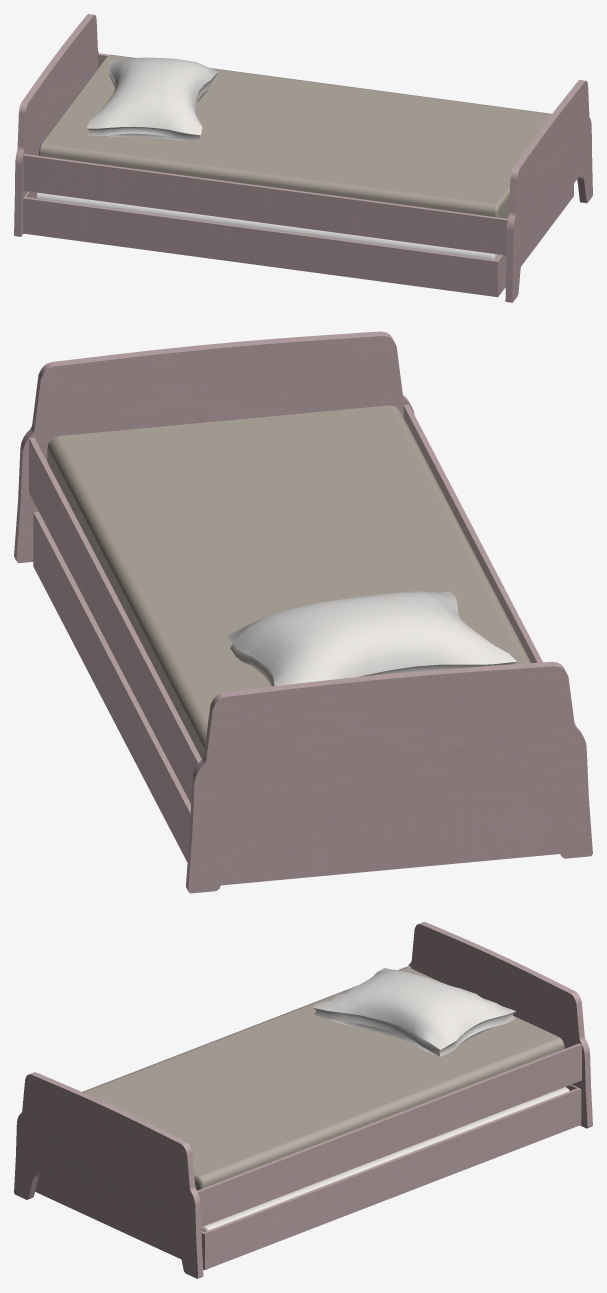
Rendered from vintage-bed_rot.gltf.
The picture shows the model from 3 angles, top to bottom: view 1: azimuth 30°, elevation 25°; view 2: azimuth 150°, elevation 25°; view 3: azimuth 270°, elevation 25°; orthographic projection. The views are drawn at different scales.
Visible parts, largest first — view 1: bed-mattress, bed-structure, divan, pillow, divan-mattress; view 2: bed-structure, bed-mattress, divan, pillow; view 3: bed-structure, bed-mattress, divan, pillow, divan-mattress.
Part boxes in pixels (bbox=[...]): bed-mattress: bbox=[38, 54, 551, 218]; bed-structure: bbox=[14, 14, 592, 302]; divan: bbox=[23, 184, 573, 297]; pillow: bbox=[86, 57, 218, 141]; divan-mattress: bbox=[35, 192, 499, 259]; bed-structure: bbox=[14, 331, 592, 893]; bed-mattress: bbox=[47, 405, 530, 758]; divan: bbox=[33, 511, 559, 885]; pillow: bbox=[227, 590, 516, 686]; bed-structure: bbox=[14, 922, 592, 1278]; bed-mattress: bbox=[82, 967, 564, 1190]; divan: bbox=[35, 1084, 581, 1270]; pillow: bbox=[312, 968, 516, 1056]; divan-mattress: bbox=[201, 1087, 569, 1231].
Bounding box in the file's own units: 212 × 54.01 × 218.
Materials: 7 (2 with a texture image).
